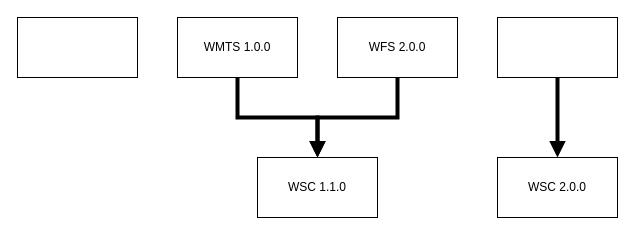
Image size: 635x235. Some labels were removed from this diagram. Each missing label, with the box of its shape:
WCS 2.0.1: (496, 16, 618, 78)
WMS 1.3.0: (16, 16, 138, 78)
